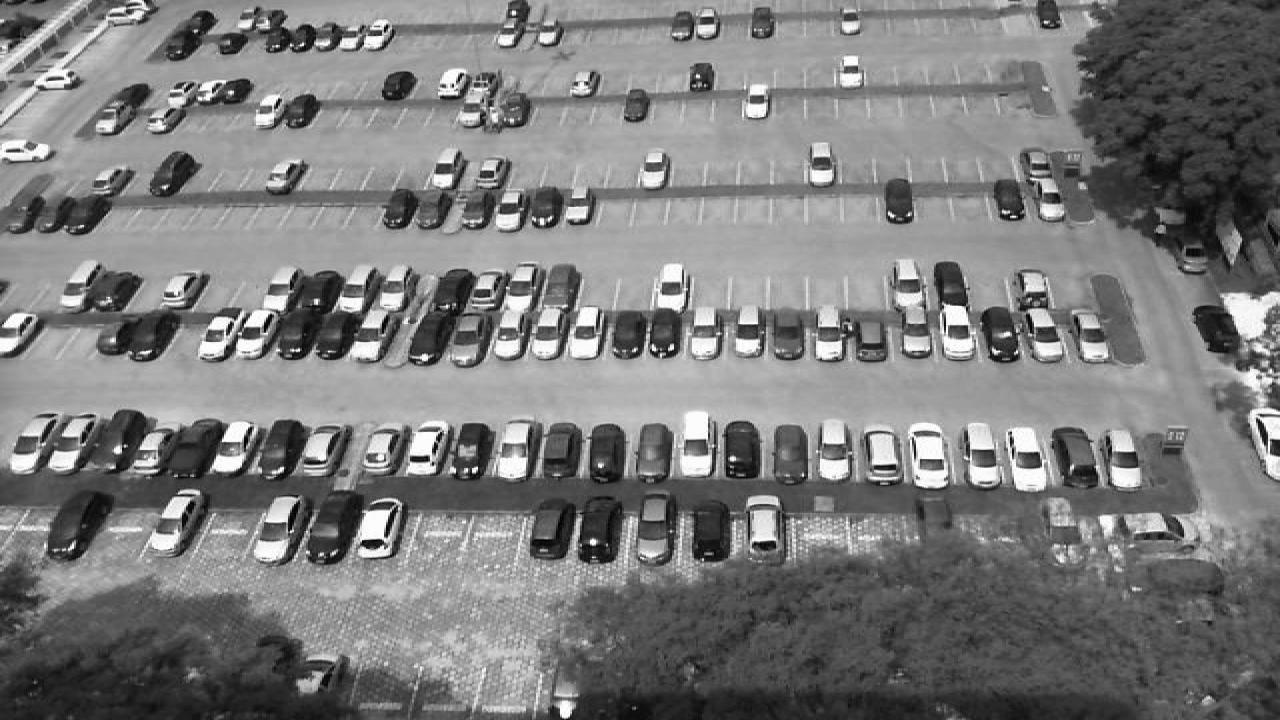Car: (40, 488, 110, 562), (142, 487, 210, 557), (306, 493, 366, 566), (250, 494, 304, 562), (160, 417, 222, 476), (90, 408, 146, 472), (354, 496, 408, 560), (208, 419, 266, 478), (528, 497, 580, 562), (50, 410, 102, 474), (630, 489, 676, 560), (576, 495, 622, 563), (960, 422, 1006, 489), (1052, 424, 1100, 488), (10, 411, 58, 474), (194, 307, 248, 362), (908, 421, 952, 488), (300, 422, 350, 480), (404, 421, 454, 479), (1008, 423, 1050, 492), (1112, 511, 1202, 543), (254, 421, 304, 478), (360, 422, 410, 479), (688, 500, 732, 564), (498, 420, 544, 481), (540, 420, 586, 481), (408, 310, 458, 366), (120, 422, 170, 476), (96, 306, 146, 360), (56, 259, 106, 313), (1104, 426, 1146, 490), (678, 410, 716, 480), (232, 308, 282, 361), (308, 308, 356, 362), (448, 423, 494, 479), (862, 422, 902, 486), (744, 494, 782, 560), (588, 423, 628, 485), (448, 308, 490, 367), (352, 308, 396, 364), (722, 420, 762, 481), (810, 304, 850, 363), (636, 422, 674, 484), (146, 148, 194, 197), (980, 306, 1020, 364), (1062, 307, 1102, 365), (272, 308, 316, 360), (852, 306, 892, 363), (818, 419, 854, 482), (156, 269, 206, 313), (432, 267, 476, 317), (772, 423, 808, 484), (140, 308, 182, 360), (1018, 305, 1056, 362), (62, 192, 110, 236), (94, 270, 140, 315), (302, 269, 348, 314), (490, 307, 528, 361), (0, 312, 42, 360), (940, 304, 976, 360), (914, 492, 954, 542), (568, 306, 604, 361), (900, 304, 936, 359), (540, 262, 580, 311), (530, 306, 566, 360), (688, 304, 724, 358), (264, 266, 306, 312), (1010, 266, 1052, 312), (610, 307, 646, 360), (770, 305, 804, 361), (504, 264, 542, 314), (648, 308, 684, 360), (382, 264, 418, 316), (932, 259, 970, 308), (470, 266, 508, 314), (428, 146, 466, 194), (894, 256, 928, 308), (2, 192, 44, 234), (32, 192, 74, 234), (732, 305, 764, 360), (990, 176, 1028, 222), (1030, 176, 1068, 222), (654, 262, 688, 313), (346, 265, 380, 315), (882, 176, 916, 224), (90, 162, 136, 197), (414, 187, 450, 231), (636, 148, 672, 192), (460, 184, 494, 230), (494, 182, 528, 228), (528, 184, 562, 230), (262, 158, 304, 195), (382, 187, 416, 231), (1020, 145, 1058, 183), (806, 140, 838, 185), (146, 102, 188, 136), (562, 186, 596, 227), (164, 27, 202, 62), (94, 99, 130, 135), (252, 92, 288, 128), (110, 81, 152, 111), (476, 155, 510, 190), (288, 94, 320, 130), (456, 92, 488, 128), (32, 69, 84, 91), (742, 82, 772, 120), (434, 68, 468, 100), (494, 16, 526, 50), (838, 54, 868, 90), (362, 19, 394, 52), (566, 67, 600, 98), (382, 70, 416, 101), (622, 87, 652, 122), (336, 22, 370, 52), (528, 14, 558, 48), (500, 91, 528, 127), (192, 79, 228, 107), (264, 21, 294, 54), (688, 61, 718, 93), (222, 76, 254, 106), (166, 81, 200, 109), (748, 6, 776, 40), (314, 22, 344, 53), (216, 30, 250, 56), (290, 24, 318, 54), (694, 8, 720, 40), (838, 4, 864, 36), (1034, 0, 1062, 29), (670, 9, 694, 41), (480, 68, 504, 96)
